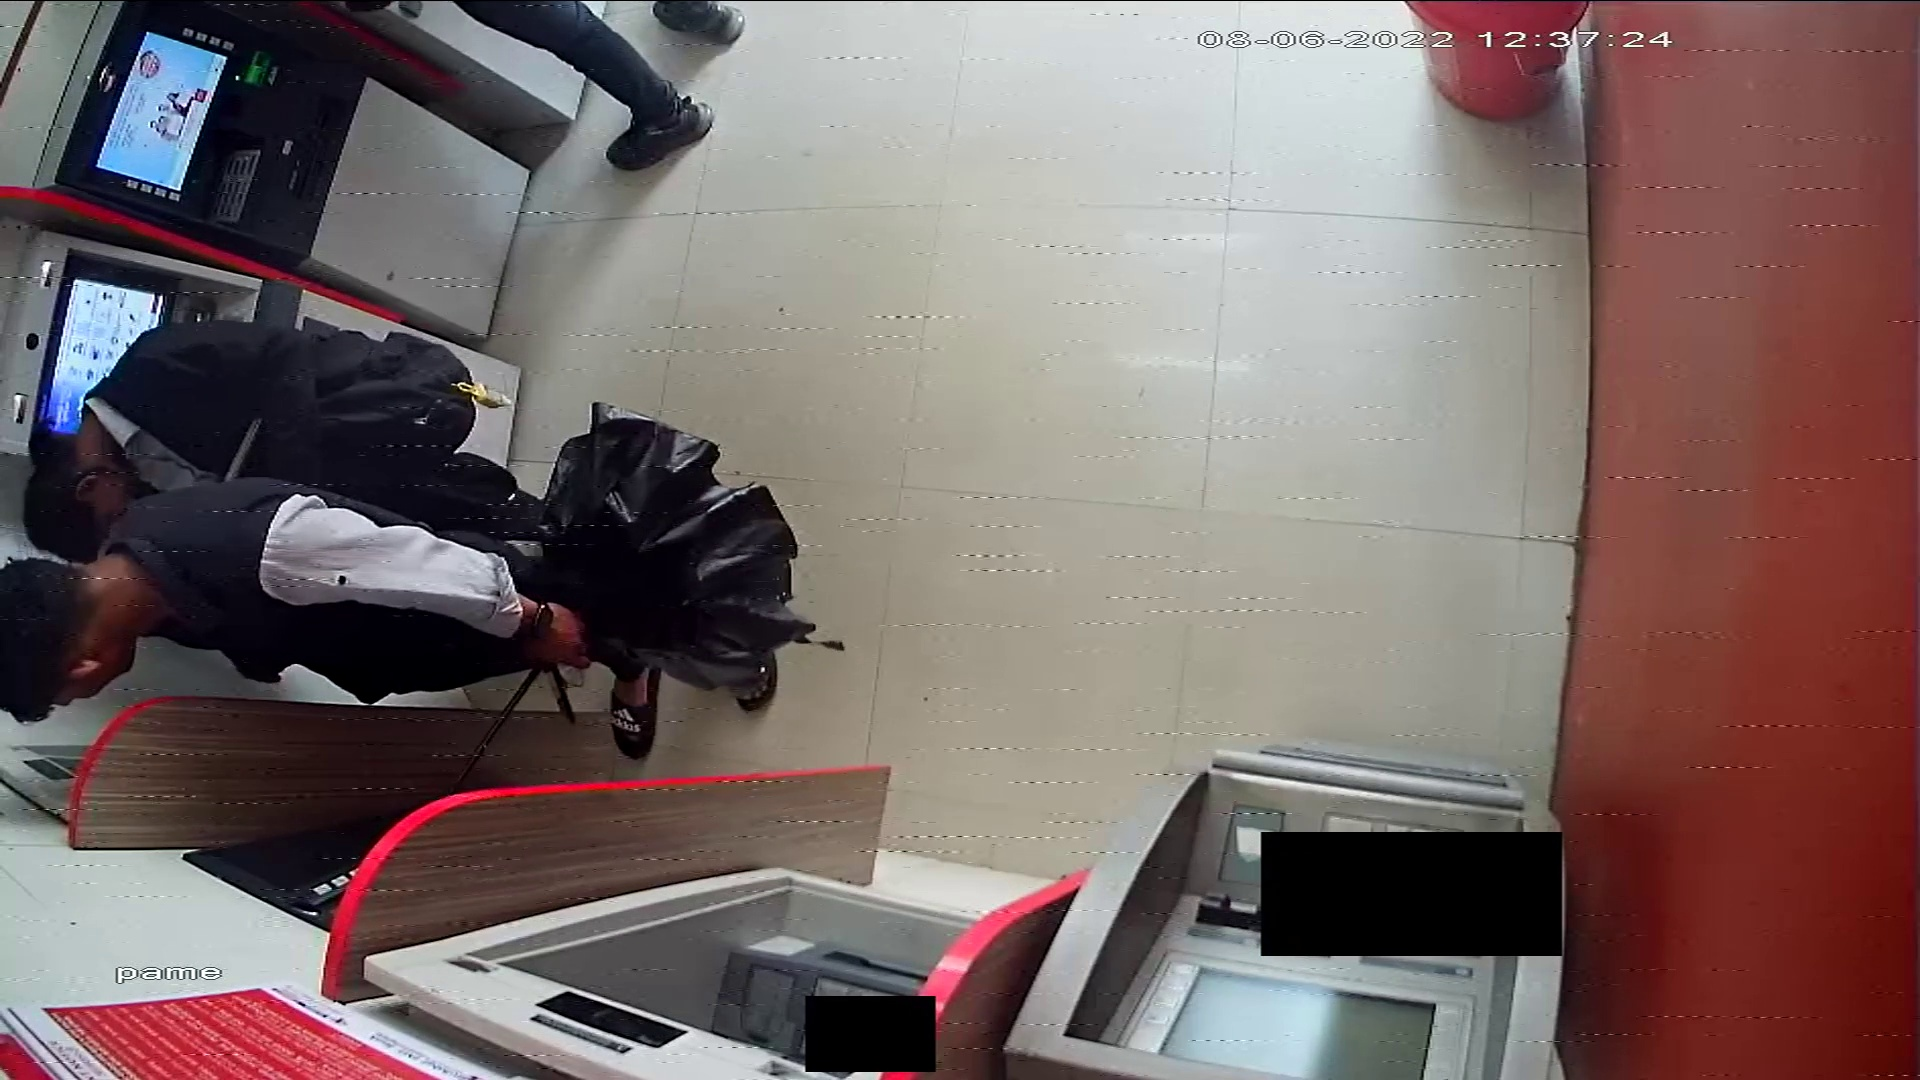person: (2, 480, 791, 754), (14, 315, 567, 559), (462, 1, 768, 171)
